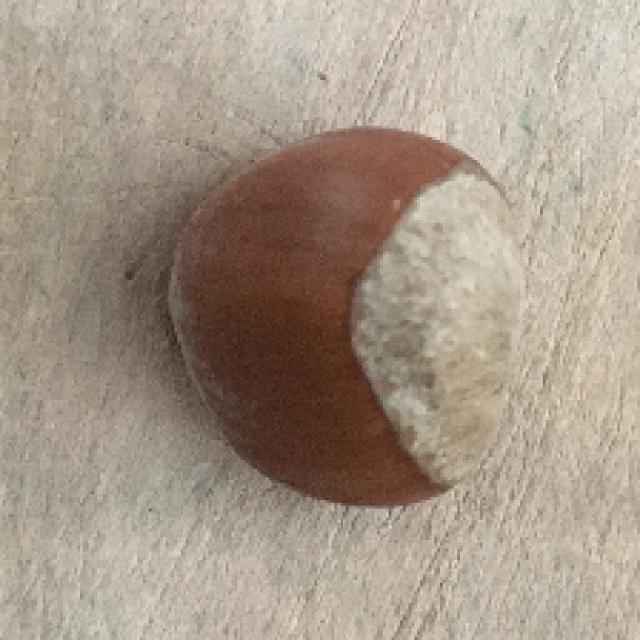QualityHazelnut: (174, 128, 527, 507)
